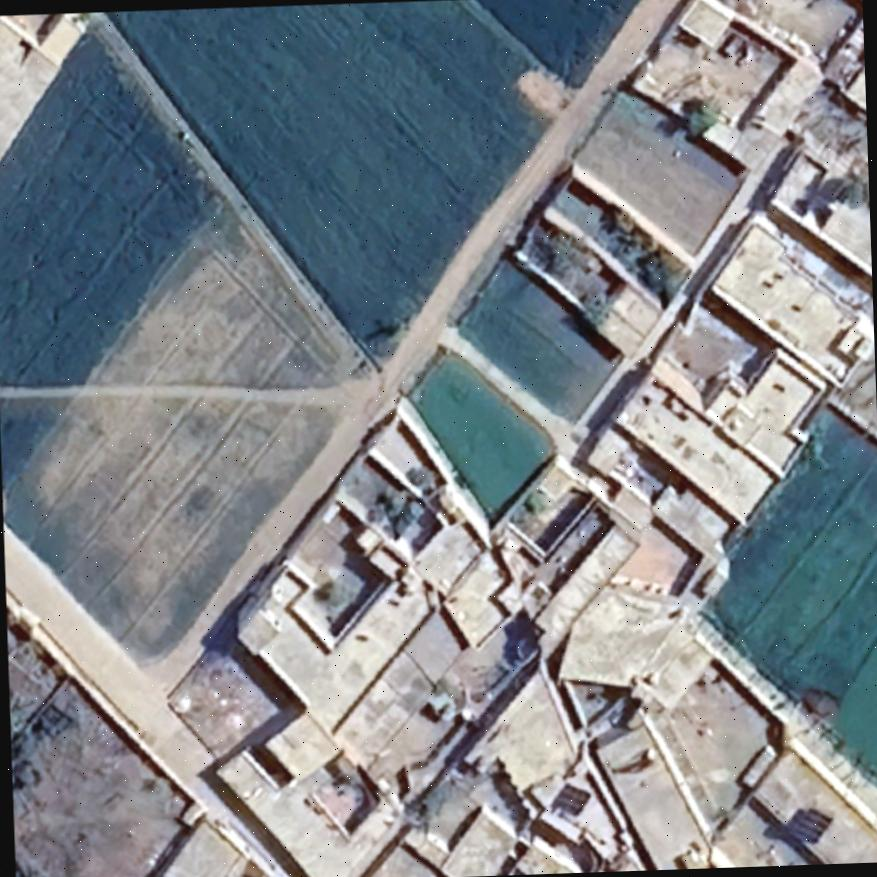Solarpanel: (785, 805, 834, 846), (547, 781, 591, 818)
